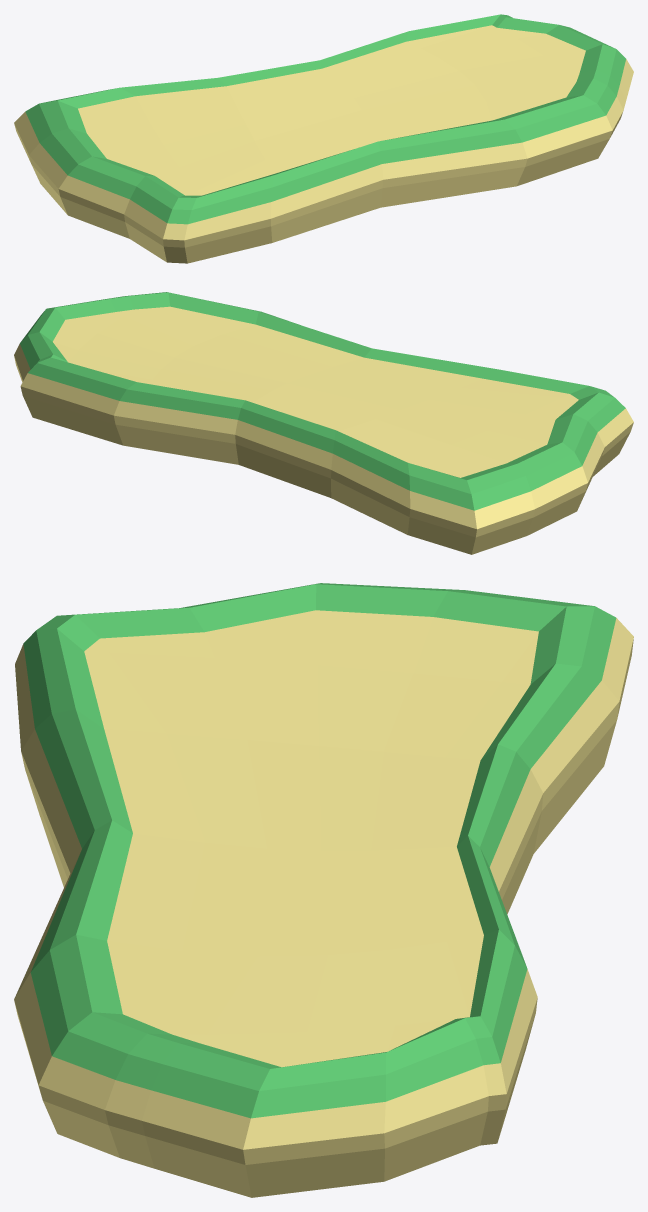
The model's file is MiniPlatform02.fbx.
The picture shows the model from 3 angles, top to bottom: view 1: azimuth 30°, elevation 25°; view 2: azimuth 150°, elevation 25°; view 3: azimuth 270°, elevation 25°; orthographic projection. The views are drawn at different scales.
Parts seen in each view (by area): view 1: Plane.026; view 2: Plane.026; view 3: Plane.026.
Boxes of the visible parts, x1,y1,x2,y2 form: Plane.026: [14, 14, 633, 263]; Plane.026: [14, 292, 633, 554]; Plane.026: [14, 583, 633, 1197].
Bounding box in the file's own units: 1788 × 206 × 876.
